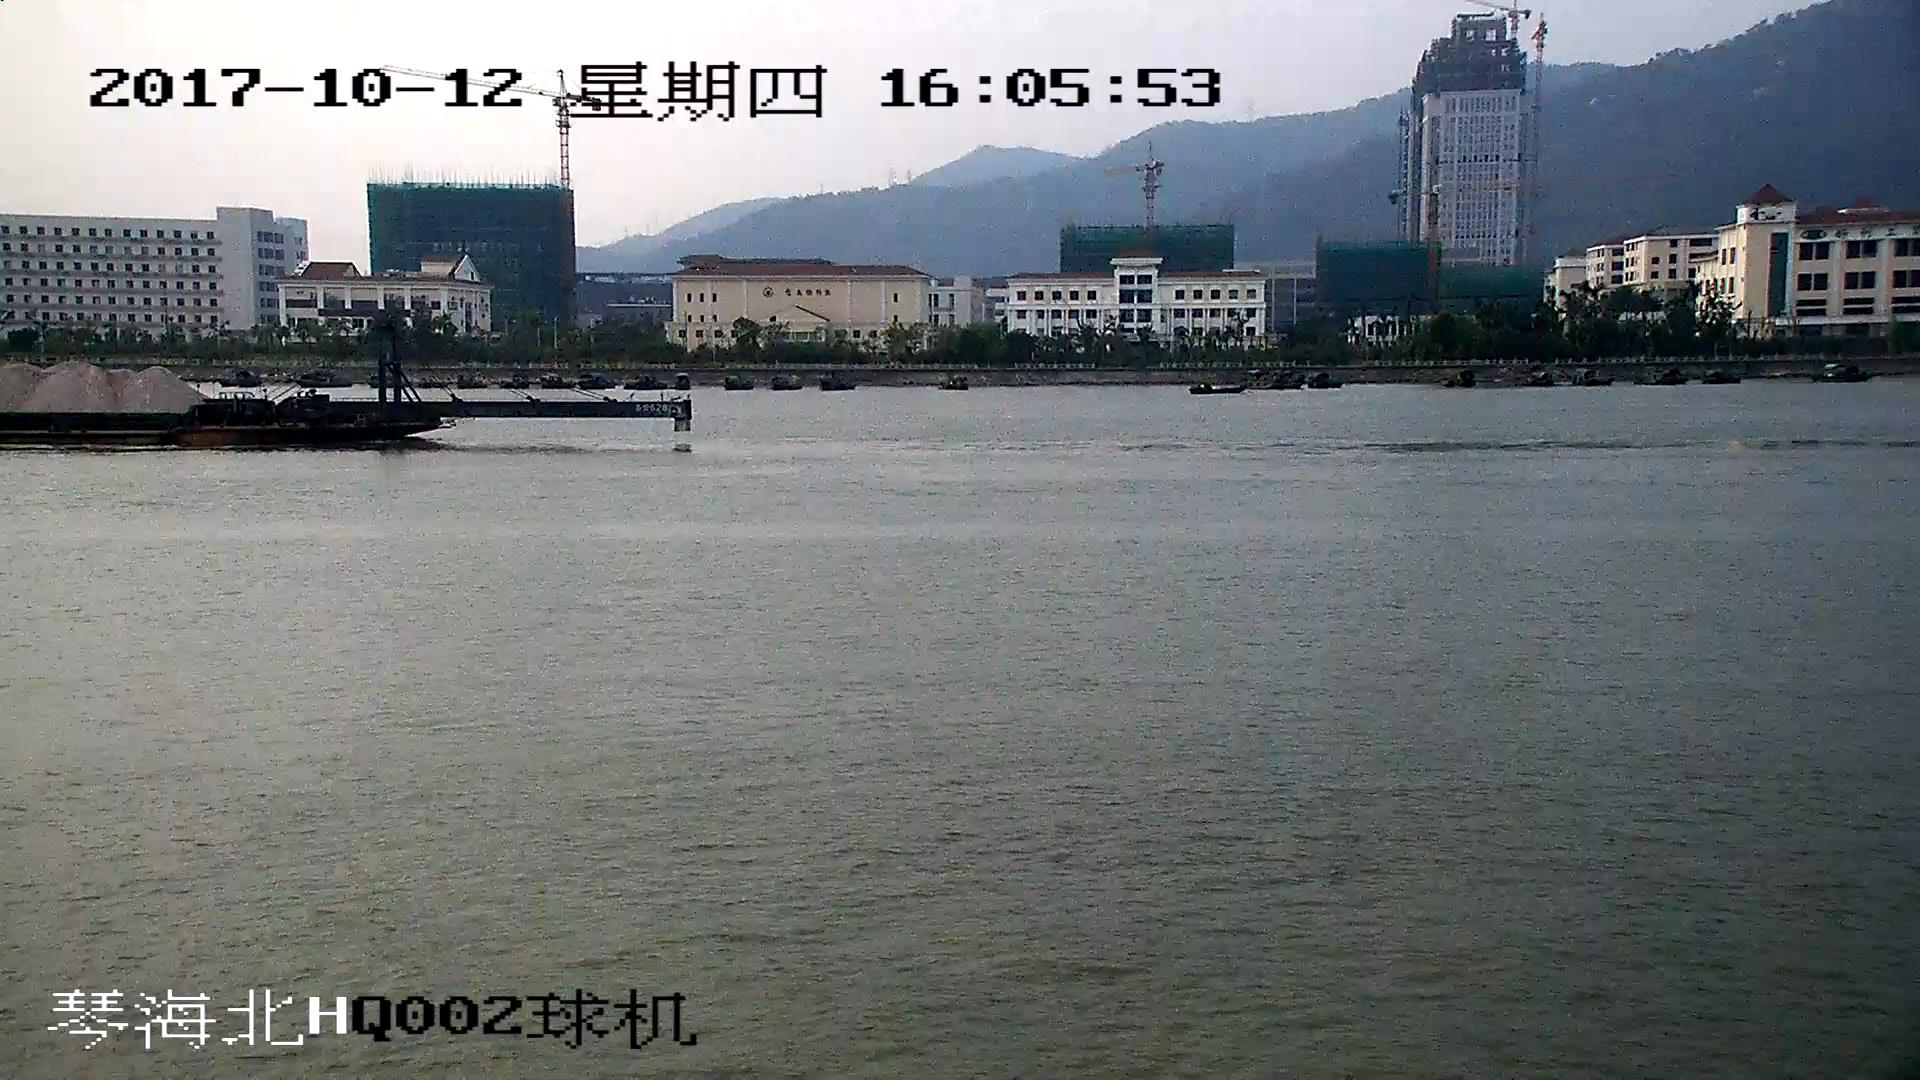ore carrier: (1, 324, 686, 451)
